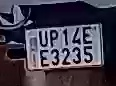1: (58, 25, 69, 47)
2: (61, 47, 72, 67)
3: (70, 47, 83, 66), (51, 48, 60, 67)
4: (71, 27, 82, 47)
5: (83, 43, 93, 66)
E: (80, 25, 96, 45), (37, 47, 50, 69)
P: (48, 28, 60, 49)
U: (37, 30, 49, 48)
